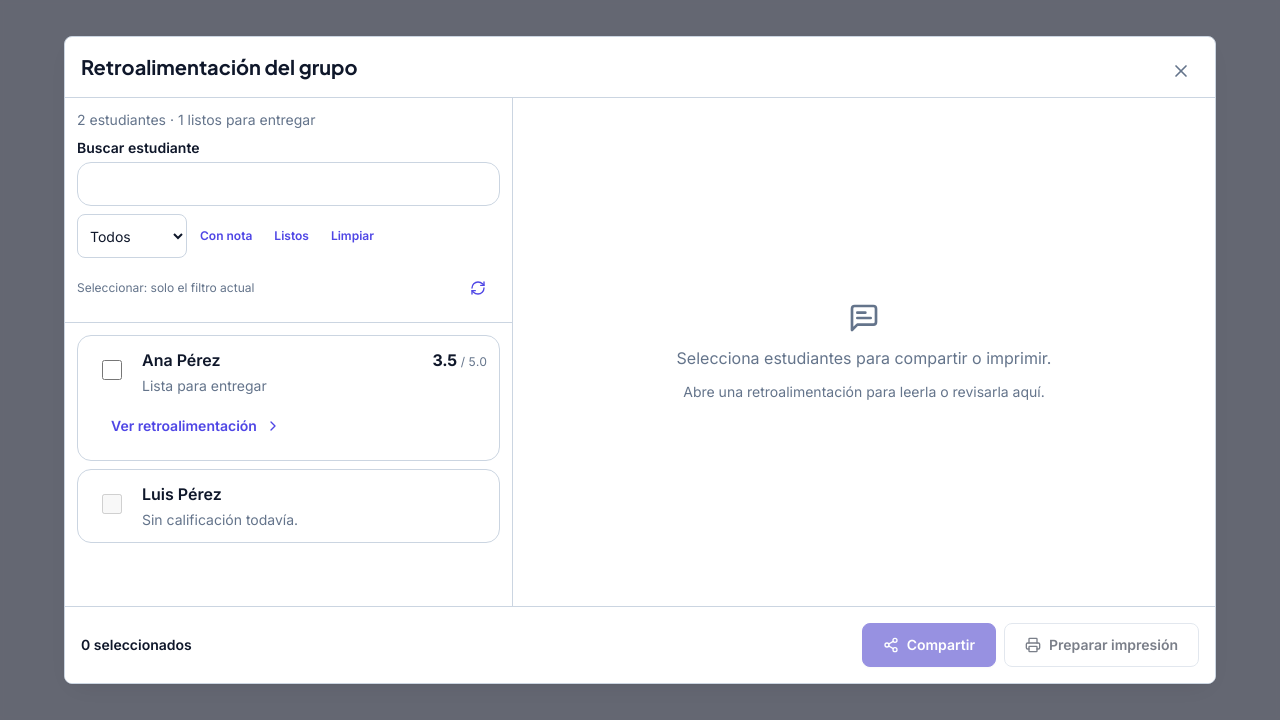
Test: retroalimentaciones por evaluación › crea solo seleccionados con tres días y evidencia desactivada
Click the checkbox named "Seleccionar Ana Pérez".
click(112, 370)  # box [102,360,122,380]
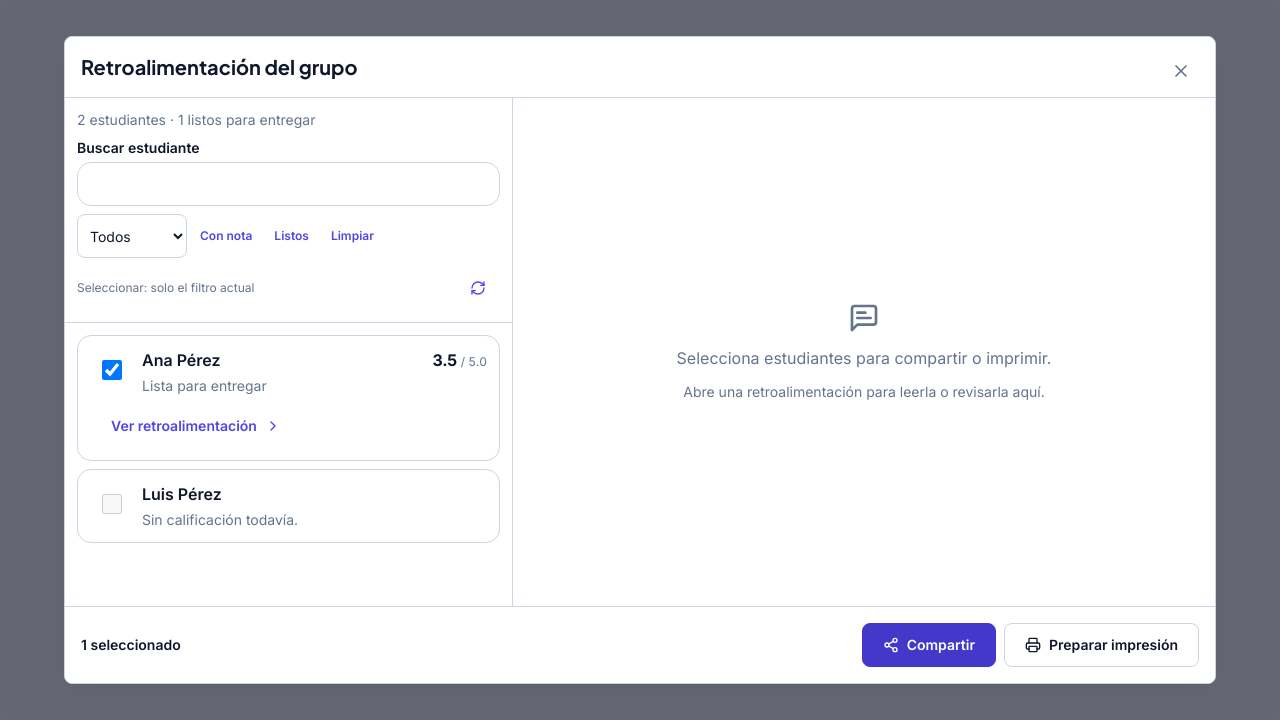
Click the button "Compartir".
click(929, 645)  # box [862,623,996,667]
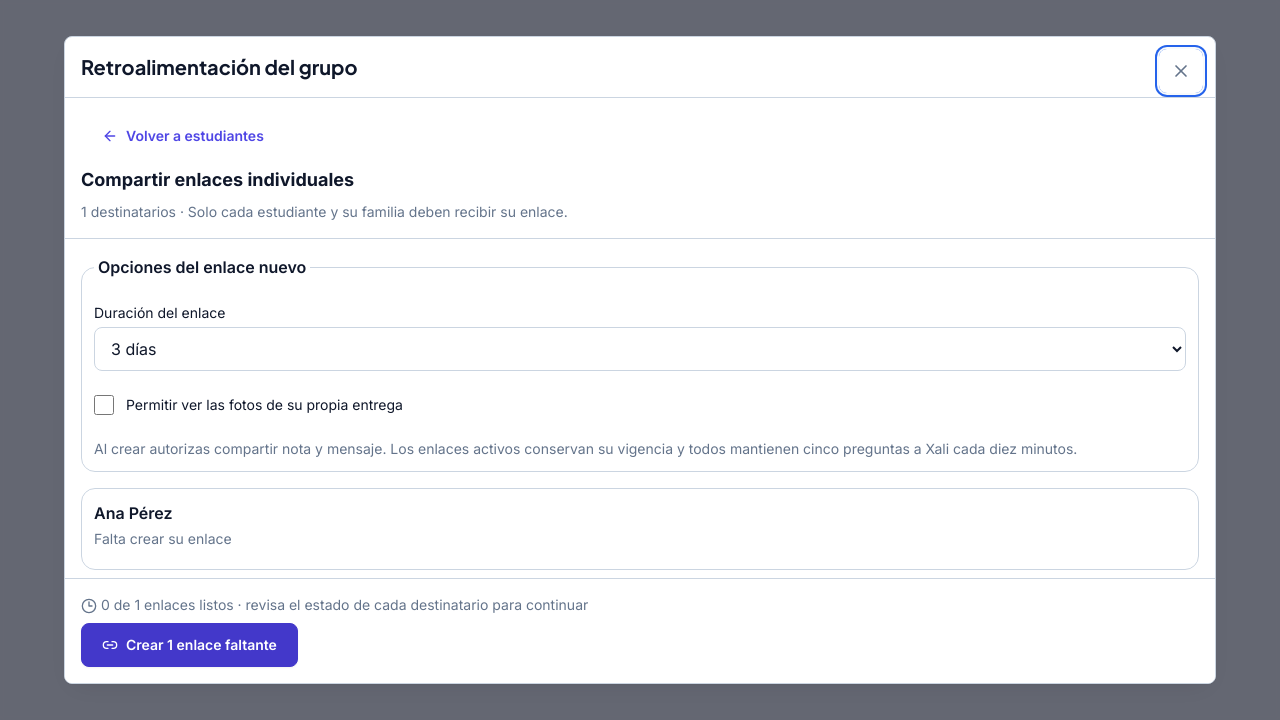
Click the button "Crear 1 enlace faltante".
click(189, 645)  # box [81,623,298,667]
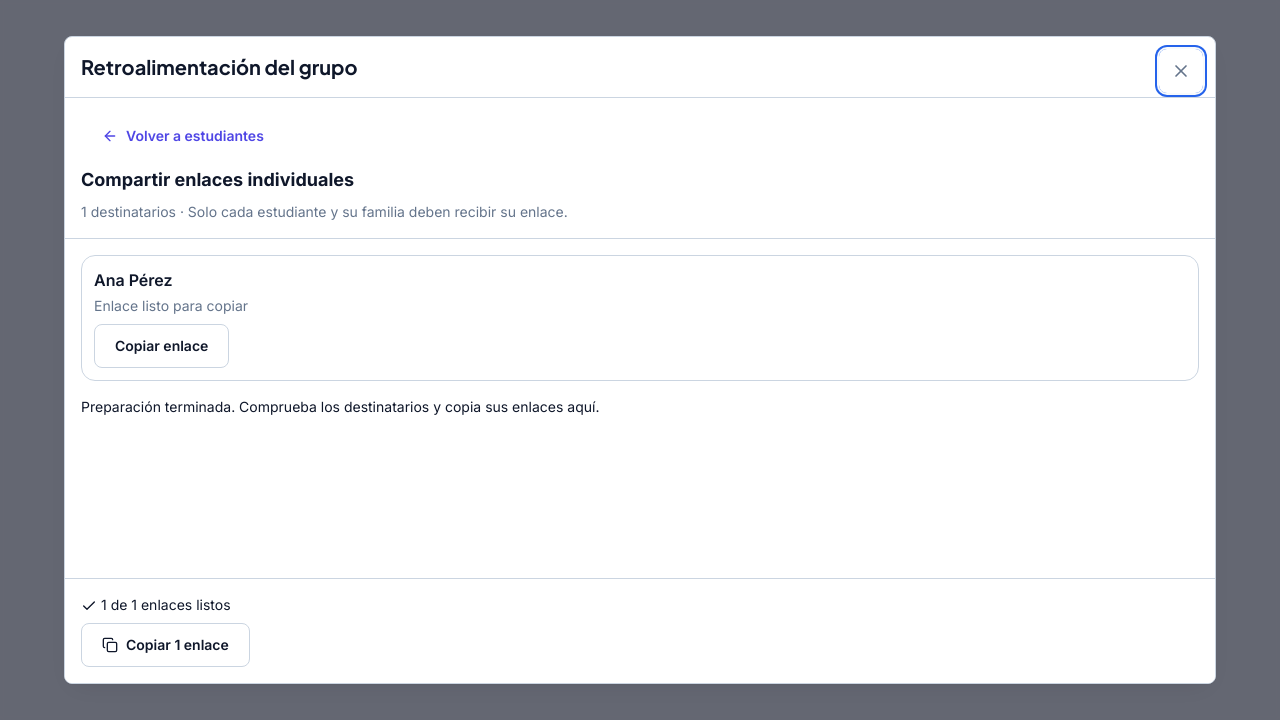
Check: the button with aria-label "Copiar enlace de Ana Pérez" is shown, box [94,324,229,368]
